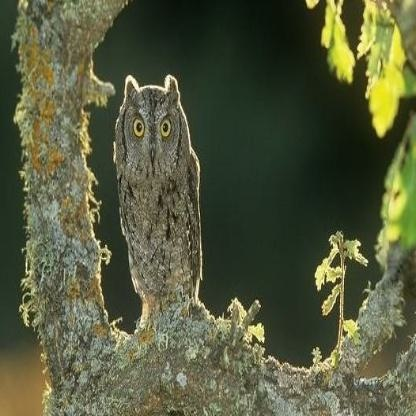Owl: (117, 80, 201, 319)
